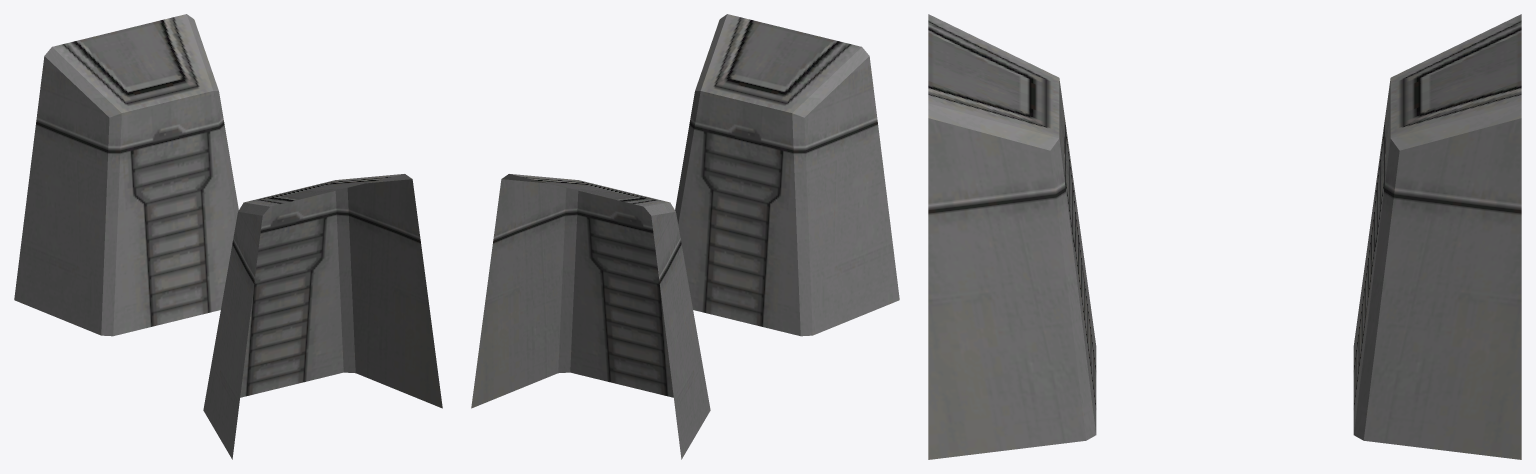
Rendered from DeathEggSeparator.glb.
3 renders of one model, left to right at view 1: azimuth 30°, elevation 25°; view 2: azimuth 150°, elevation 25°; view 3: azimuth 270°, elevation 25°, orthographic. The views are drawn at different scales.
Visible parts, largest first — view 1: DeathEggBlueLightsSeparator-col.002; view 2: DeathEggBlueLightsSeparator-col.002; view 3: DeathEggBlueLightsSeparator-col.002.
Part boxes in pixels (left/top/right/bottom): DeathEggBlueLightsSeparator-col.002: left=14, top=14, right=442, bottom=459; DeathEggBlueLightsSeparator-col.002: left=471, top=14, right=899, bottom=459; DeathEggBlueLightsSeparator-col.002: left=928, top=14, right=1521, bottom=459.
Bounding box in the file's own units: 3.51 × 3.89 × 6.31.
1 material, 1 textured.
